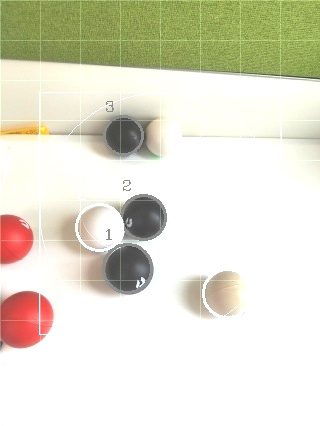Pelota blanca: (199, 268, 254, 320), (74, 201, 123, 254), (143, 116, 182, 158)
Pelota negra: (103, 241, 155, 296), (121, 193, 169, 240), (103, 116, 145, 155)
Pelota roja: (0, 289, 54, 349), (0, 212, 33, 264)
